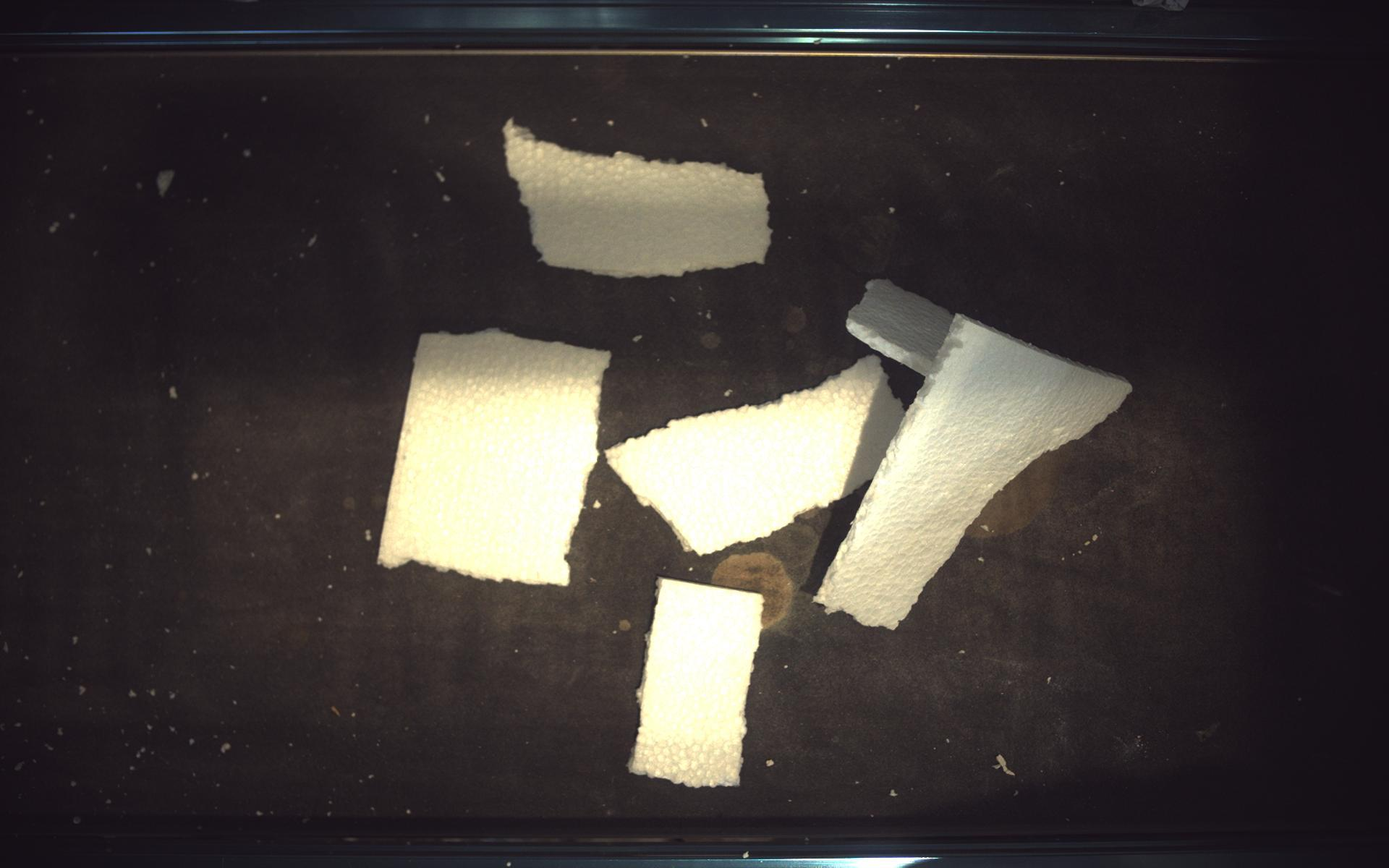foam: (817, 314, 1134, 629), (378, 329, 611, 586), (607, 356, 905, 555), (504, 119, 772, 277), (629, 579, 763, 789), (849, 278, 955, 376)
